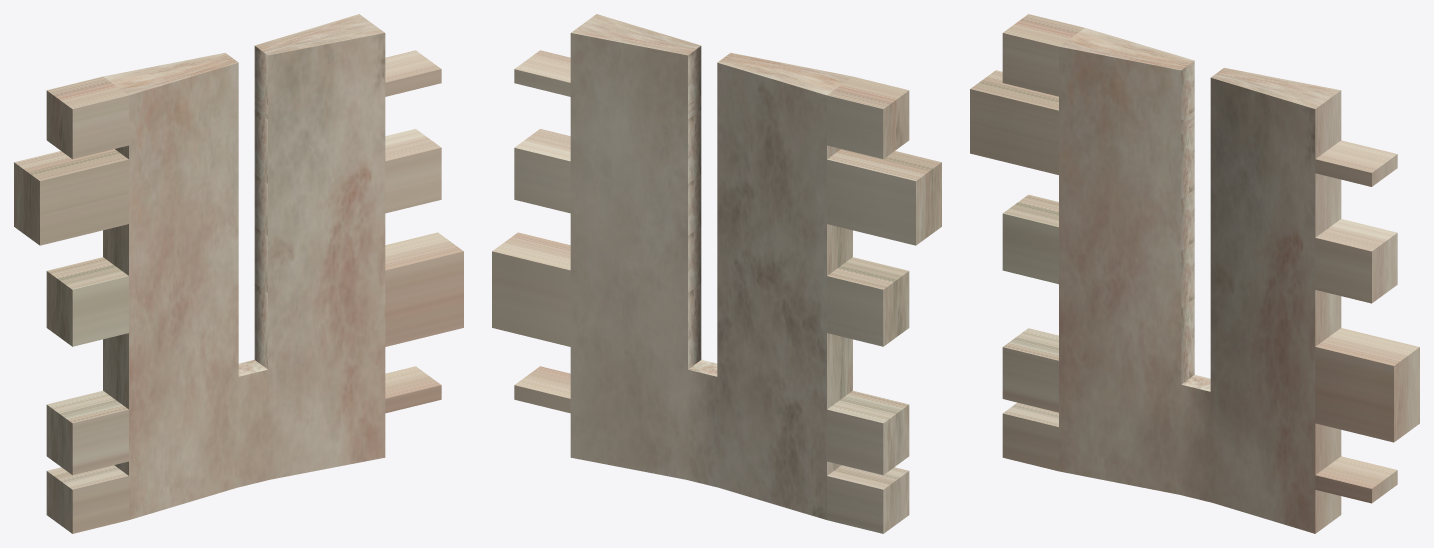
The model's file is keyPart1.fbx.
3 renders of one model, left to right at view 1: azimuth 30°, elevation 25°; view 2: azimuth 150°, elevation 25°; view 3: azimuth 330°, elevation 25°, orthographic.
Visible parts, largest first — view 1: pCube8; view 2: pCube8; view 3: pCube8.
Part boxes in pixels (<box>): pCube8: <box>14,14,463,533</box>; pCube8: <box>492,14,941,533</box>; pCube8: <box>970,14,1419,533</box>.
Size of the model in its own units: 1.96 by 1.88 by 0.2073.
Materials: 1 (1 with a texture image).
